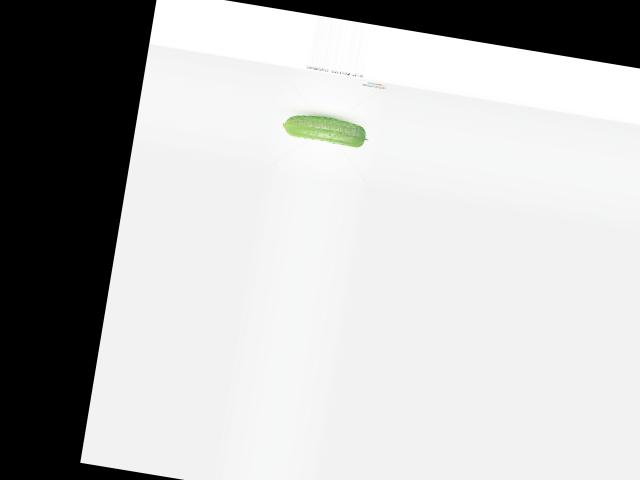cucumber: (279, 110, 370, 149)
